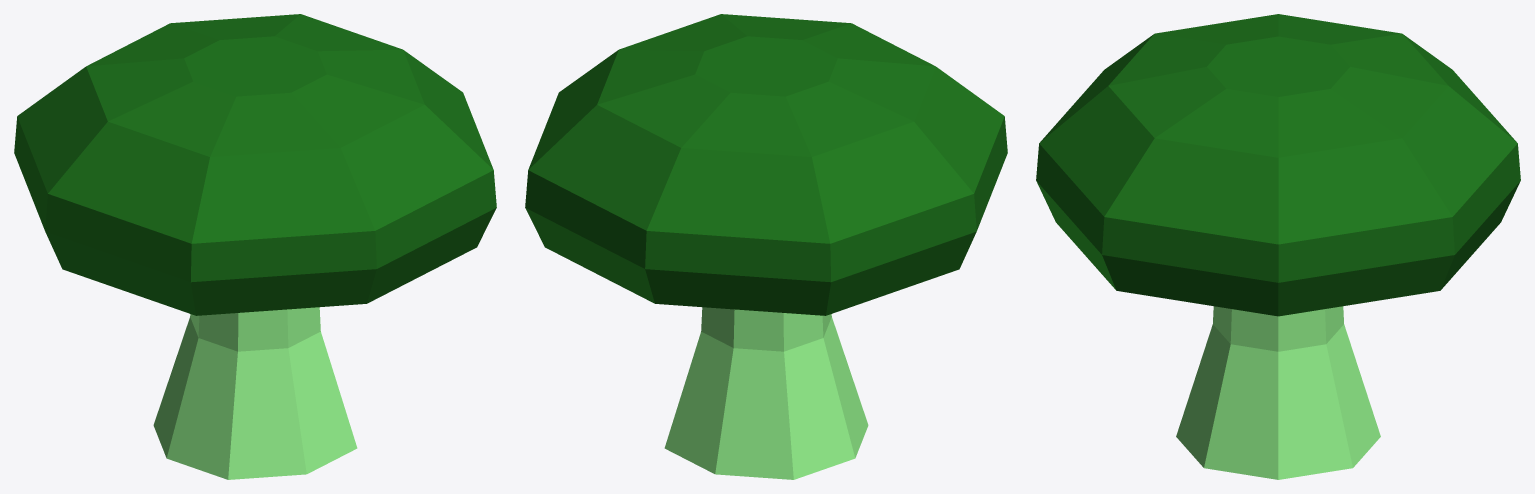
Rendered from Broccoli.fbx.
3 views of the same model, side by side, from view 1: azimuth 30°, elevation 25°; view 2: azimuth 150°, elevation 25°; view 3: azimuth 270°, elevation 25° (orthographic).
Visible parts, largest first — view 1: Cube; view 2: Cube; view 3: Cube.
Boxes of the visible parts, bbox=[...] form: Cube: bbox=[14, 14, 496, 479]; Cube: bbox=[525, 14, 1007, 479]; Cube: bbox=[1036, 14, 1520, 479].
Size of the model in its own units: 195 by 164 by 195.
